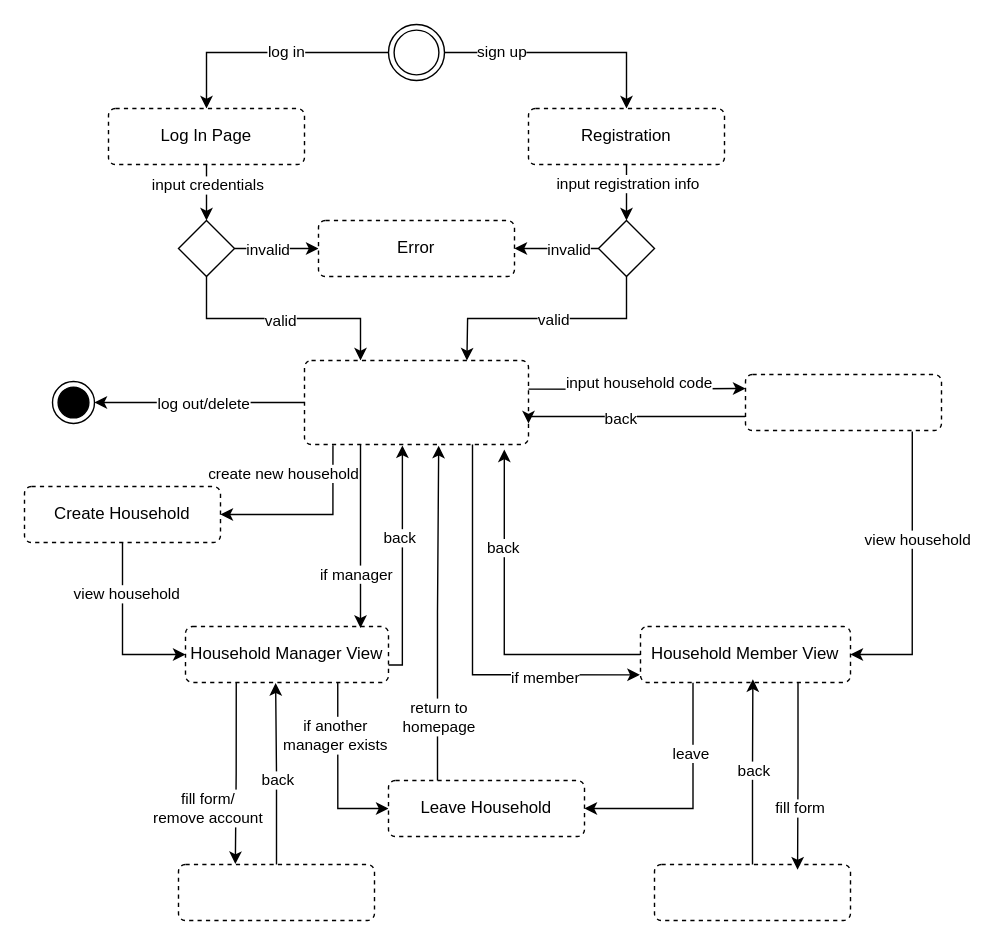
Image size: 995x945. Some labels were removed from this diagram. The box of each missing label's shape, as (x1, y1, x2, y2) in pixels:
Add Account: (653, 863, 850, 920)
Edit Account Info: (177, 863, 374, 920)
Homepage: (303, 359, 528, 444)
Join Household: (744, 373, 941, 430)
